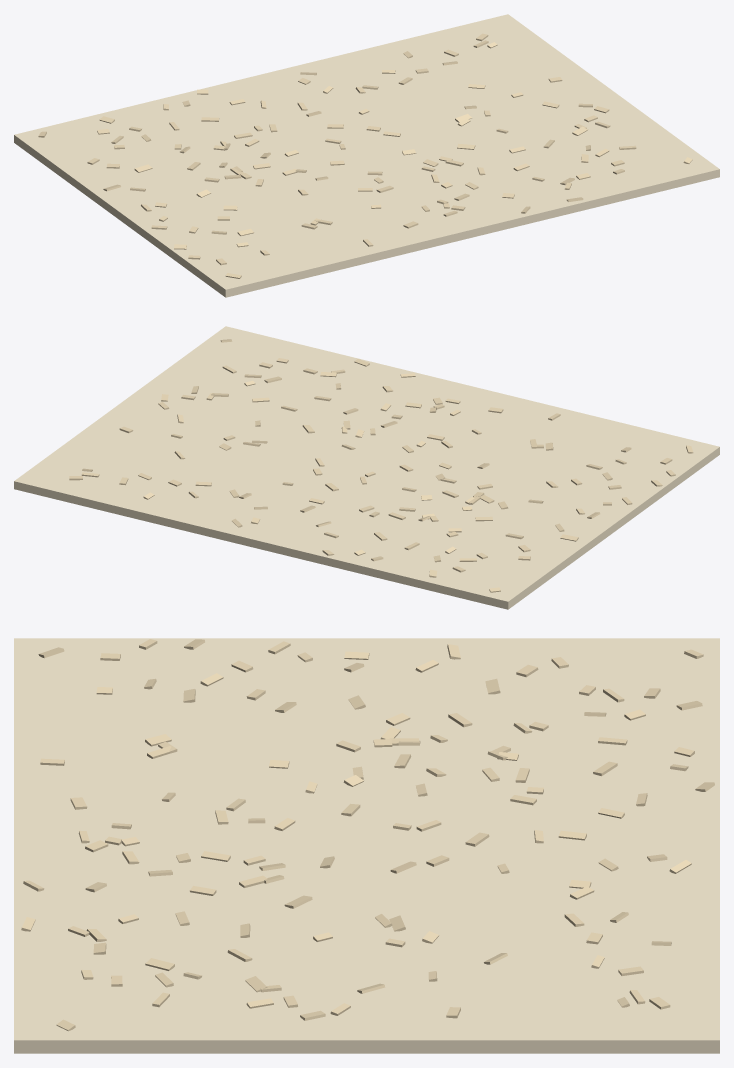
The model's file is bedding.glb.
3 views of the same model, one above another, from view 1: azimuth 30°, elevation 25°; view 2: azimuth 150°, elevation 25°; view 3: azimuth 270°, elevation 25° (orthographic). The views are drawn at different scales.
Parts seen in each view (by area): view 1: bedding_base, shavings; view 2: bedding_base, shavings; view 3: bedding_base, shavings.
Part boxes in pixels (<box>): bedding_base: <box>14,14,719,297</box>; shavings: <box>38,33,692,278</box>; bedding_base: <box>14,326,719,609</box>; shavings: <box>69,339,693,592</box>; bedding_base: <box>14,638,719,1053</box>; shavings: <box>21,639,714,1031</box>.
Bounding box in the file's own units: 3.88 × 0.0778 × 2.88.
